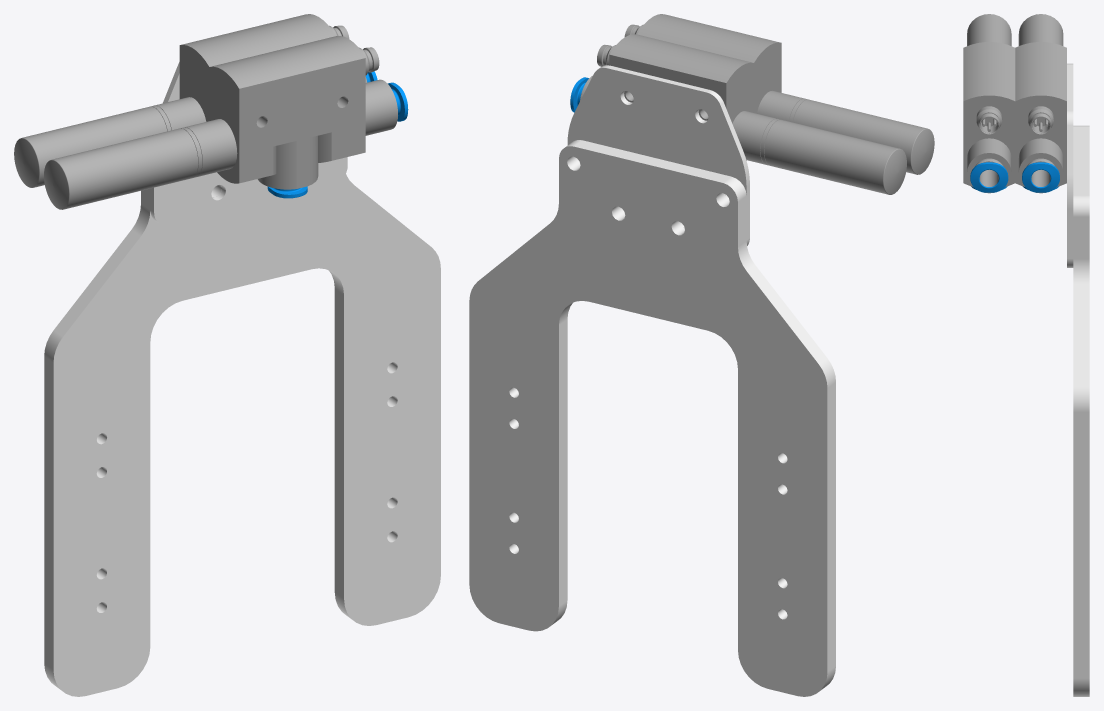
Rendered from suction_mount_wide_v2.obj.
The picture shows the model from 3 angles, left to right: view 1: azimuth 30°, elevation 25°; view 2: azimuth 150°, elevation 25°; view 3: azimuth 270°, elevation 25°; orthographic projection. The views are drawn at different scales.
Parts seen in each view (by area): view 1: Solid1, Solid2:1, Solid2, Solid1:1; view 2: Solid1, Solid2, Solid1:1, Solid2:1; view 3: Solid1, Solid2:1, Solid2, Solid1:1.
Part boxes in pixels (box(x1,y1,x2,y2)): Solid1: box(44, 174, 440, 696); Solid2:1: box(44, 36, 408, 209); Solid2: box(14, 14, 377, 187); Solid1:1: box(150, 62, 347, 225); Solid1: box(469, 140, 835, 696); Solid2: box(570, 34, 906, 194); Solid1:1: box(567, 65, 749, 245); Solid2:1: box(624, 14, 934, 174); Solid1: box(1073, 125, 1089, 696); Solid2:1: box(963, 14, 1015, 193); Solid2: box(1015, 14, 1066, 193); Solid1:1: box(1067, 63, 1073, 267).
Bounding box in the file's own units: 0.135 × 0.1889 × 0.039.
